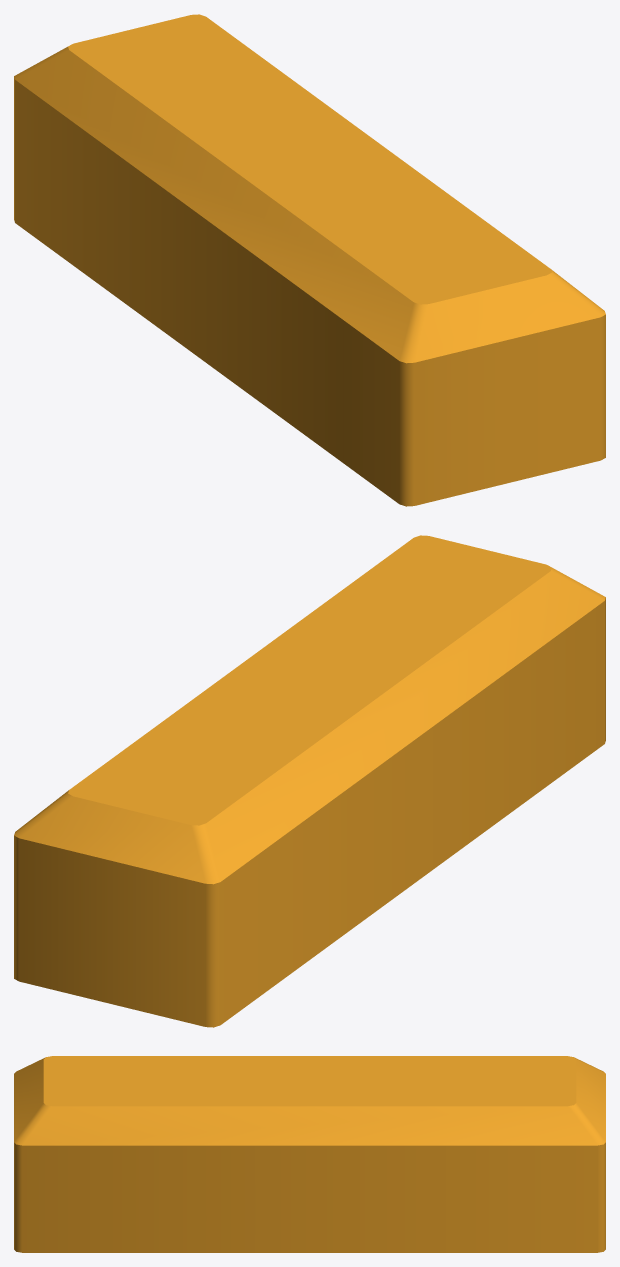
File: Gold_bar_whole.fbx
3 views of the same model, one above another, from view 1: azimuth 30°, elevation 25°; view 2: azimuth 150°, elevation 25°; view 3: azimuth 270°, elevation 25° (orthographic). The views are drawn at different scales.
Parts seen in each view (by area): view 1: Gold_whole; view 2: Gold_whole; view 3: Gold_whole.
Boxes of the visible parts, x1,y1,x2,y2 form: Gold_whole: (14,14,605,506); Gold_whole: (14,535,605,1027); Gold_whole: (14,1056,605,1252).
Bounding box in the file's own units: 600 × 500 × 2000.
